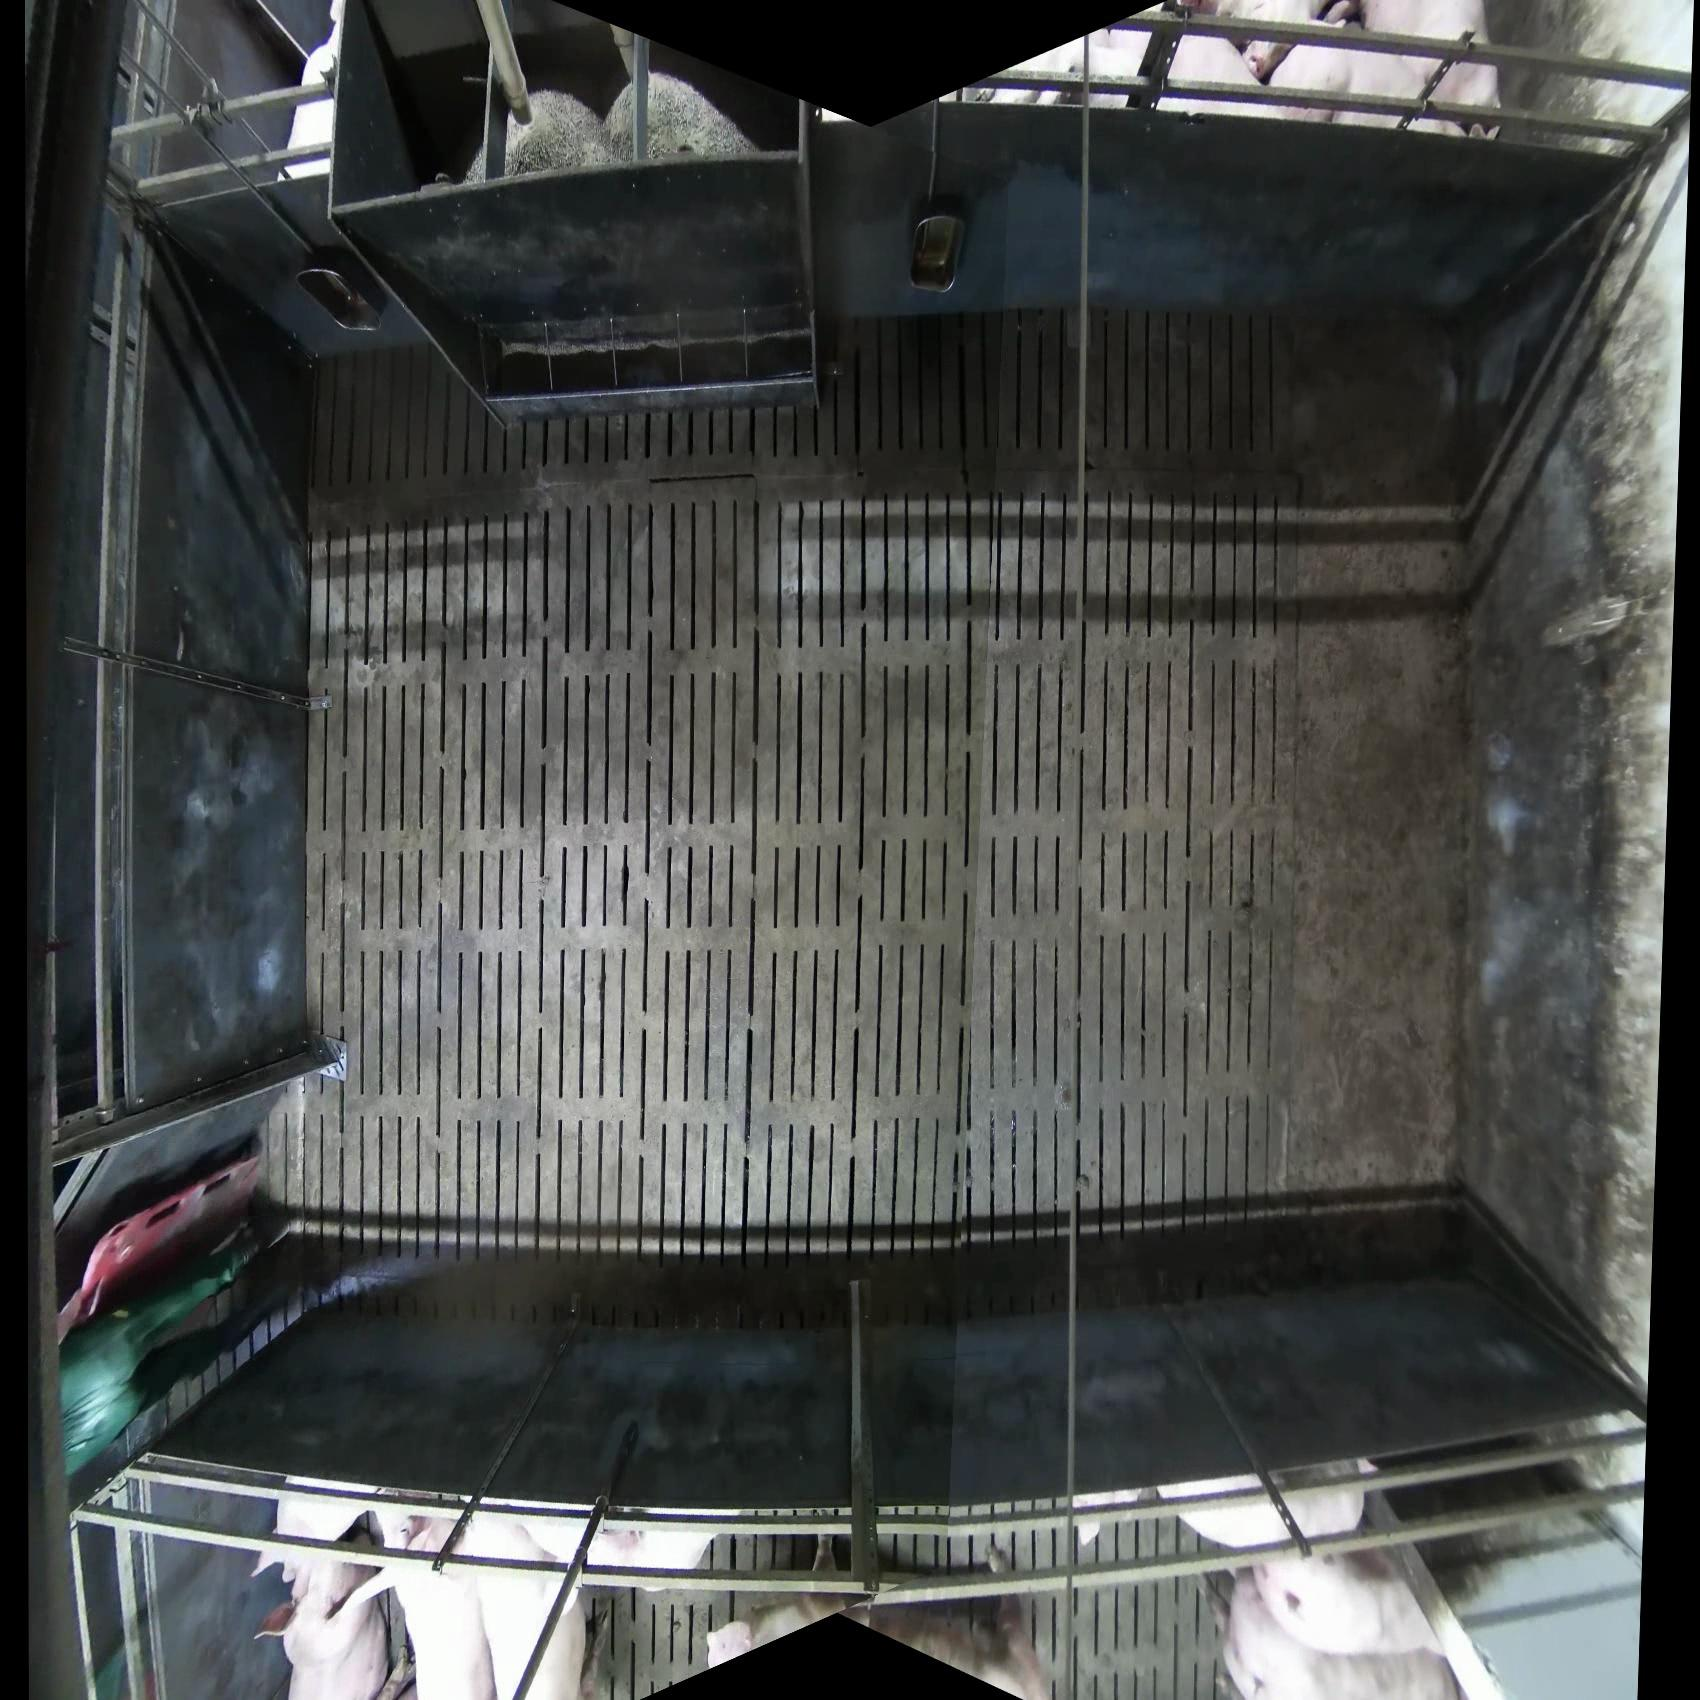pig: (455, 1509, 605, 1700)
worker: (55, 1127, 320, 1493)
